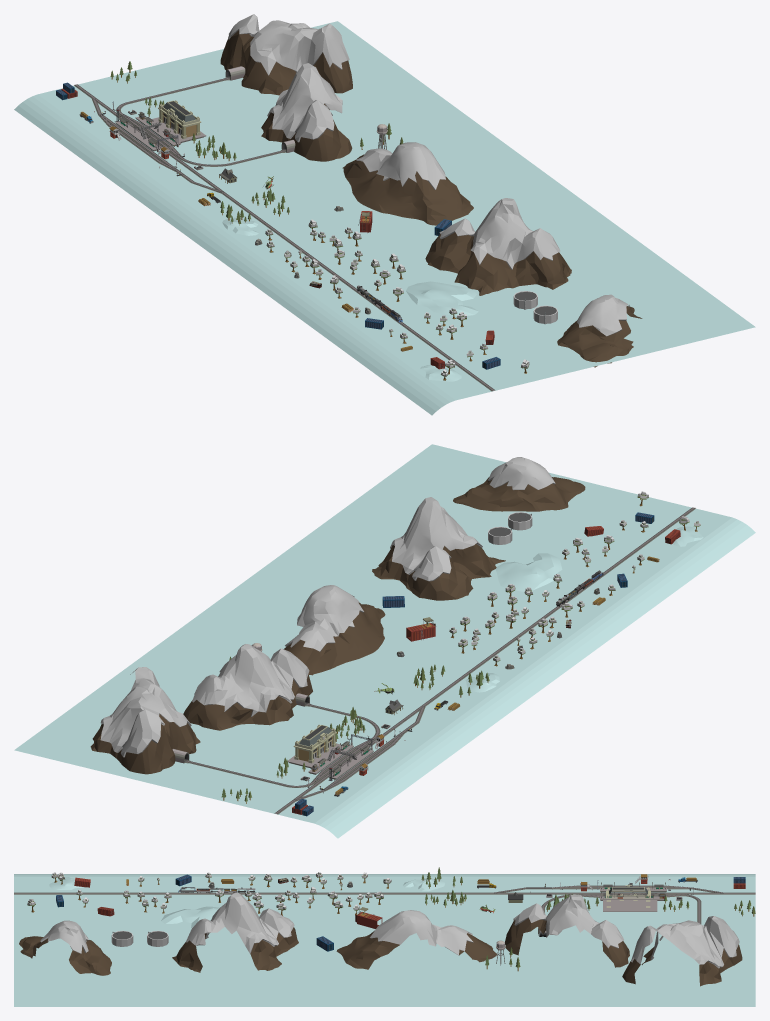
Rendered from _lvl_winter_bg_2.glb.
3 renders of one model, top to bottom at view 1: azimuth 30°, elevation 25°; view 2: azimuth 150°, elevation 25°; view 3: azimuth 270°, elevation 25°, orthographic. The views are drawn at different scales.
Parts seen in each view (by area): view 1: bg_ground_2, bg_ground_far_2, SM_Env_HillSnow_Pack_2, bg_near_plane_winter, SM_Env_Hills_Small_2, SM_Env_Rails_3, SM_Bld_Station_Large_02 (1); view 2: bg_ground_2, bg_ground_far_2, SM_Env_HillSnow_Pack_2, bg_near_plane_winter, SM_Env_Hills_Small_2, SM_Env_Rails_3, SM_Bld_Station_Large_02 (1); view 3: bg_ground_far_2, bg_ground_2, SM_Env_HillSnow_Pack_2, bg_near_plane_winter, SM_Env_Rails_3, SM_Env_Hills_Small_2, SM_Env_Station_Platform_04 (1), SM_Env_Rails_3_part_3, SM_Bld_Station_Large_02 (1), SM_Env_Rails_3_part_5, SA_Prop_FenceWoodL_Gate_01, SM_Bld_Silo_02 (2) (+1 smaller).
Part boxes in pixels (<box>): bg_ground_2: <box>38,61,590,400</box>; bg_ground_far_2: <box>173,21,755,367</box>; SM_Env_HillSnow_Pack_2: <box>220,14,642,367</box>; bg_near_plane_winter: <box>14,94,455,415</box>; SM_Env_Hills_Small_2: <box>222,217,478,381</box>; SM_Env_Rails_3: <box>74,84,232,193</box>; SM_Bld_Station_Large_02 (1): <box>158,100,201,138</box>; bg_ground_2: <box>179,484,731,823</box>; bg_ground_far_2: <box>14,444,596,790</box>; SM_Env_HillSnow_Pack_2: <box>90,457,585,774</box>; bg_near_plane_winter: <box>314,517,755,838</box>; SM_Env_Hills_Small_2: <box>465,526,703,692</box>; SM_Env_Rails_3: <box>274,705,425,814</box>; SM_Bld_Station_Large_02 (1): <box>293,724,336,763</box>; bg_ground_far_2: <box>14,935,755,1006</box>; bg_ground_2: <box>14,877,755,935</box>; SM_Env_HillSnow_Pack_2: <box>19,892,742,986</box>; bg_near_plane_winter: <box>14,874,755,876</box>; SM_Env_Rails_3: <box>493,885,755,908</box>; SM_Env_Hills_Small_2: <box>49,877,444,928</box>; SM_Env_Station_Platform_04 (1): <box>603,900,657,911</box>; SM_Env_Rails_3_part_3: <box>258,892,493,894</box>; SM_Bld_Station_Large_02 (1): <box>606,885,650,907</box>; SM_Env_Rails_3_part_5: <box>14,892,176,894</box>; SA_Prop_FenceWoodL_Gate_01: <box>355,907,382,928</box>; SM_Bld_Silo_02 (2): <box>111,930,133,946</box>.
Bounding box in the file's own units: 201 × 45.11 × 450.
1 material, 1 textured.
